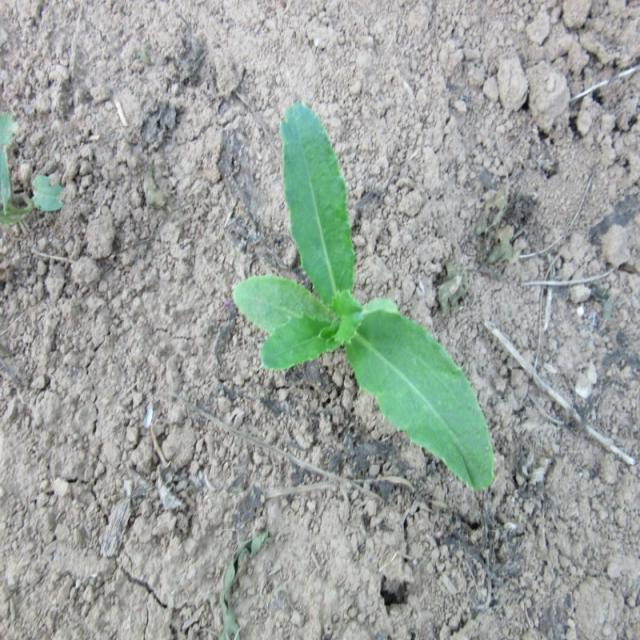cs: (231, 100, 495, 489)
